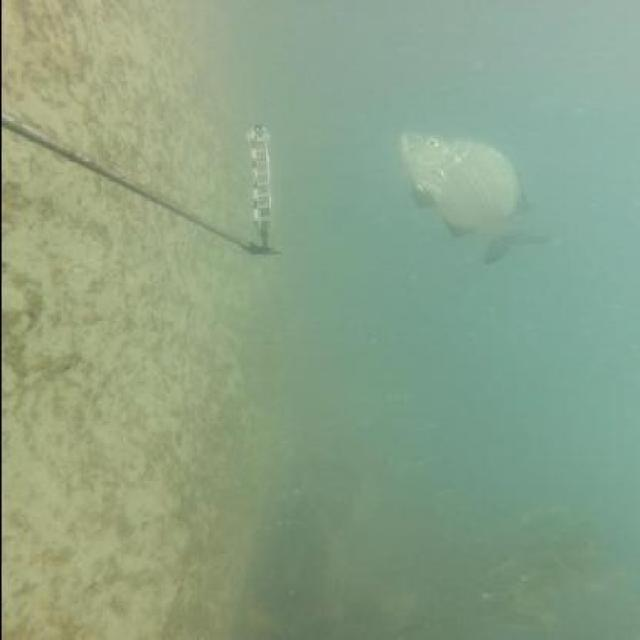acanthopagrus_palmaris: (388, 128, 558, 269)
